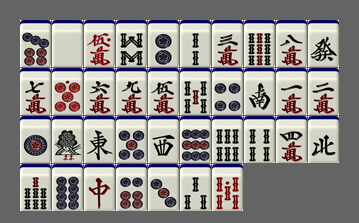0m: (84, 20, 115, 67)
0p: (52, 68, 83, 115)
0s: (212, 164, 243, 211)
1m: (276, 68, 307, 115)
1p: (20, 116, 51, 163)
1s: (52, 116, 83, 163)
1z: (84, 116, 115, 163)
2m: (308, 68, 339, 115)
2p: (148, 20, 179, 67)
2s: (180, 20, 211, 67)
2z: (244, 68, 275, 115)
3m: (212, 20, 243, 67)
3p: (148, 164, 179, 211)
3s: (180, 164, 211, 211)
3z: (148, 116, 179, 163)
4m: (276, 116, 307, 163)
4p: (212, 68, 243, 115)
4s: (244, 116, 275, 163)
4z: (308, 116, 339, 163)
5m: (148, 68, 179, 115)
5p: (116, 116, 147, 163)
5s: (180, 68, 211, 115)
5z: (52, 20, 83, 67)
6m: (84, 68, 115, 115)
6p: (116, 164, 147, 211)
6s: (212, 116, 243, 163)
6z: (308, 20, 339, 67)
7m: (20, 68, 51, 115)
7p: (20, 20, 51, 67)
7s: (20, 164, 51, 211)
7z: (84, 164, 115, 211)
8m: (276, 20, 307, 67)
8p: (52, 164, 83, 211)
8s: (116, 20, 147, 67)
9m: (116, 68, 147, 115)
9p: (180, 116, 211, 163)
9s: (244, 20, 275, 67)
